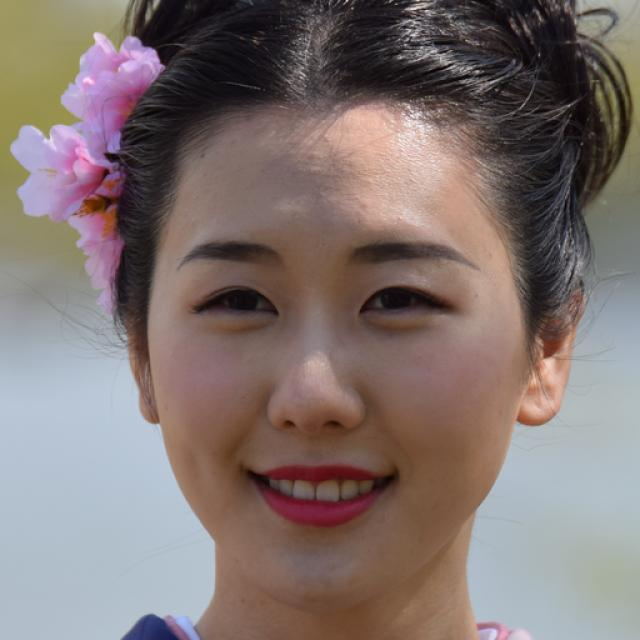0_rostro_limpio: (128, 0, 571, 610)
